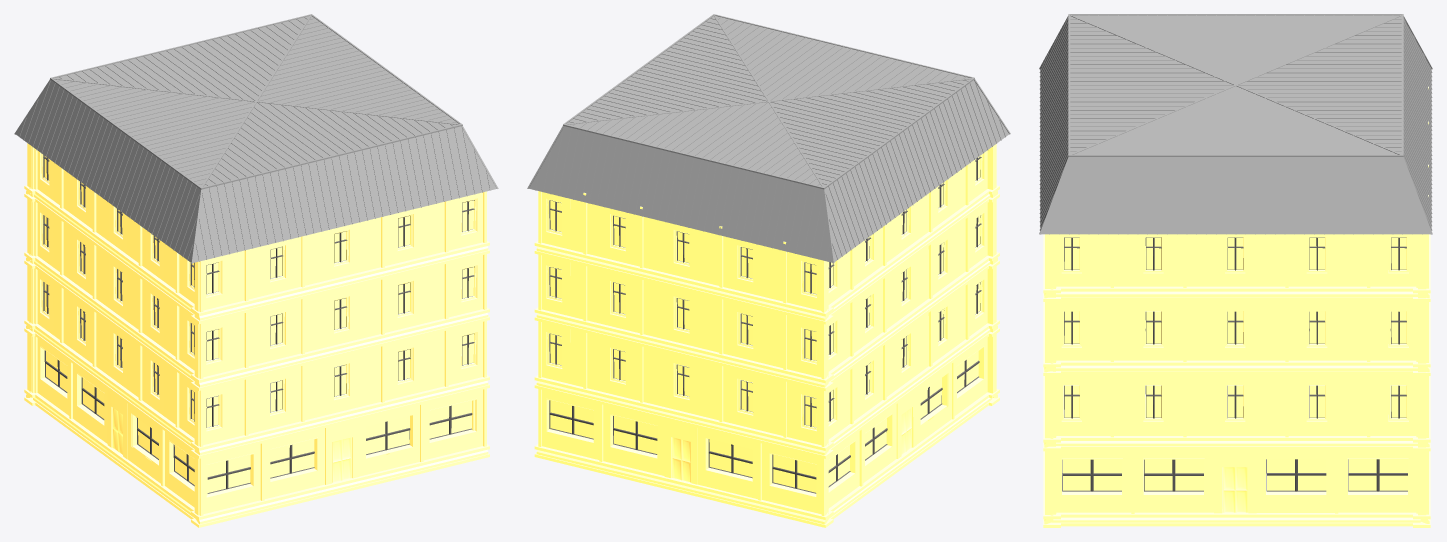
File: Buiding 02.fbx
3 renders of one model, left to right at view 1: azimuth 30°, elevation 25°; view 2: azimuth 150°, elevation 25°; view 3: azimuth 270°, elevation 25°, orthographic. The views are drawn at different scales.
Visible parts, largest first — view 1: TinRoof, Rectangular_Window_Wall_03_002__1__7, Rectangular_Window_Wall_03_002__1__4, Rectangular_Window_Wall_03_002__1__6, Rectangular_Window_Wall_03_002__1__5, wall_01__3__1, wall_01__6__1, wall_01__10__1, wall_01__1__1, wall_01__2__1, Cube__1__4, Cube__1__7 (+74 smaller); view 2: TinRoof, Rectangular_Window_Wall_03_002__1__2, Rectangular_Window_Wall_03_002__1__1, Rectangular_Window_Wall_03_002__1_, Rectangular_Window_Wall_03_002__1__3, wall_01__3_, wall_01__10_, wall_01__6_, wall_01__11_, wall_01__1_, wall_01__2_, Cube__1__2 (+77 smaller); view 3: TinRoof, Rectangular_Window_Wall_03_002__1__14, Rectangular_Window_Wall_03_002__1__12, Rectangular_Window_Wall_03_002__1__13, Rectangular_Window_Wall_03_002__1__15, wall_01__10__3, wall_01__11__3, wall_01__2__3, wall_01__3__3, wall_01__5__3, wall_01__6__3, wall_01__1__3 (+59 smaller).
Boxes of the visible parts, left/top/right/bottom form: TinRoof: left=14, top=14, right=498, bottom=263; Rectangular_Window_Wall_03_002__1__7: left=194, top=444, right=260, bottom=515; Rectangular_Window_Wall_03_002__1__4: left=359, top=405, right=419, bottom=476; Rectangular_Window_Wall_03_002__1__6: left=264, top=428, right=324, bottom=498; Rectangular_Window_Wall_03_002__1__5: left=423, top=389, right=482, bottom=460; wall_01__3__1: left=421, top=329, right=453, bottom=391; wall_01__6__1: left=421, top=262, right=453, bottom=323; wall_01__10__1: left=357, top=344, right=389, bottom=407; wall_01__1__1: left=230, top=375, right=261, bottom=438; wall_01__2__1: left=294, top=360, right=325, bottom=422; Cube__1__4: left=191, top=375, right=489, bottom=450; Cube__1__7: left=191, top=240, right=489, bottom=316; TinRoof: left=527, top=14, right=1010, bottom=263; Rectangular_Window_Wall_03_002__1__2: left=603, top=405, right=664, bottom=475; Rectangular_Window_Wall_03_002__1__1: left=762, top=443, right=828, bottom=514; Rectangular_Window_Wall_03_002__1_: left=698, top=428, right=757, bottom=499; Rectangular_Window_Wall_03_002__1__3: left=542, top=390, right=599, bottom=459; wall_01__3_: left=761, top=375, right=793, bottom=438; wall_01__10_: left=697, top=360, right=729, bottom=422; wall_01__6_: left=761, top=309, right=793, bottom=370; wall_01__11_: left=697, top=293, right=729, bottom=354; wall_01__1_: left=570, top=329, right=601, bottom=391; wall_01__2_: left=634, top=344, right=665, bottom=407; Cube__1__2: left=534, top=307, right=833, bottom=383; TinRoof: left=1039, top=14, right=1432, bottom=234; Rectangular_Window_Wall_03_002__1__14: left=1134, top=449, right=1213, bottom=512; Rectangular_Window_Wall_03_002__1__12: left=1256, top=449, right=1334, bottom=512; Rectangular_Window_Wall_03_002__1__13: left=1338, top=449, right=1416, bottom=512; Rectangular_Window_Wall_03_002__1__15: left=1056, top=449, right=1131, bottom=512; wall_01__10__3: left=1255, top=374, right=1296, bottom=435; wall_01__11__3: left=1255, top=300, right=1296, bottom=360; wall_01__2__3: left=1174, top=374, right=1214, bottom=435; wall_01__3__3: left=1337, top=374, right=1378, bottom=435; wall_01__5__3: left=1174, top=300, right=1214, bottom=360; wall_01__6__3: left=1337, top=300, right=1378, bottom=360; wall_01__1__3: left=1092, top=374, right=1132, bottom=435.
Size of the model in its own units: 1926 by 1964 by 1926.
